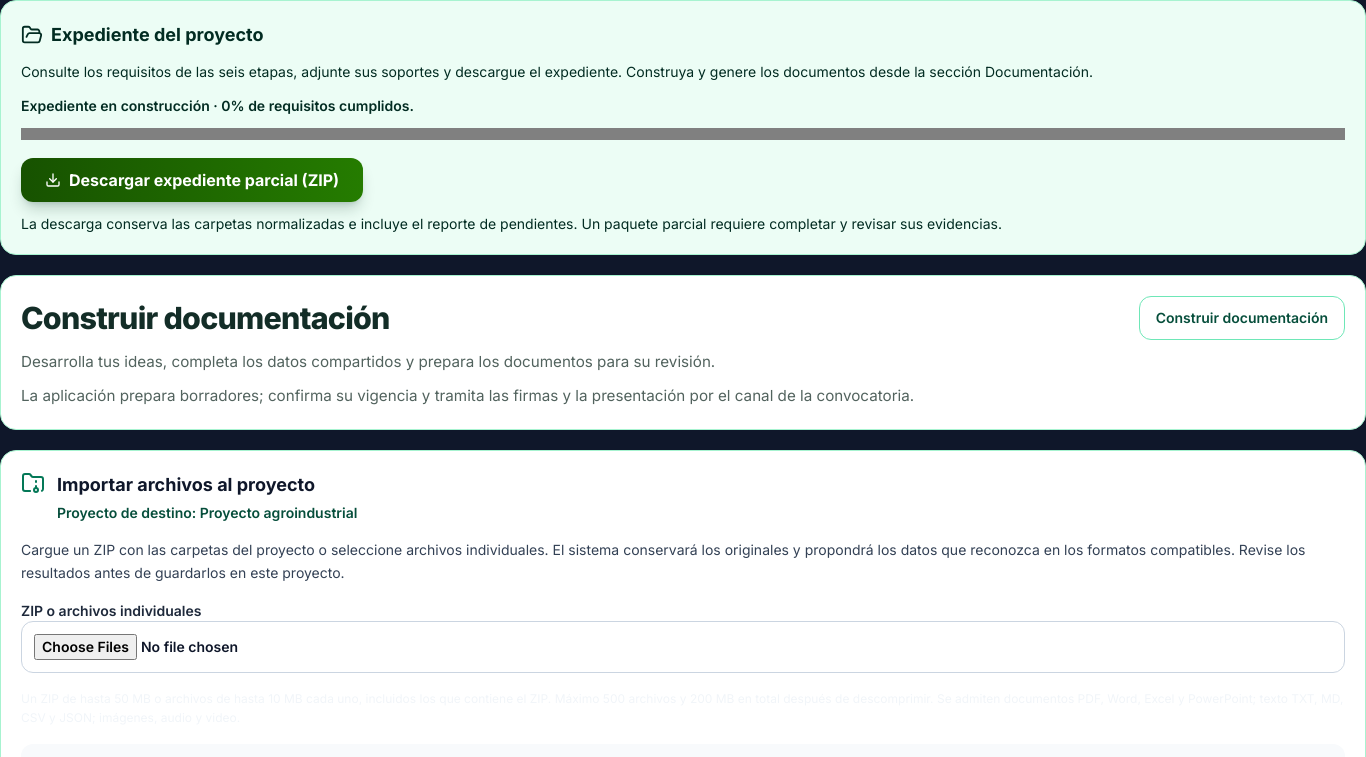
Scenario: Expediente de evidencias del proyecto › descarga el ZIP parcial con su nombre y muestra el resultado
Click the button "Descargar expediente parcial (ZIP)". click: (192, 180)
box: [21, 158, 363, 202]
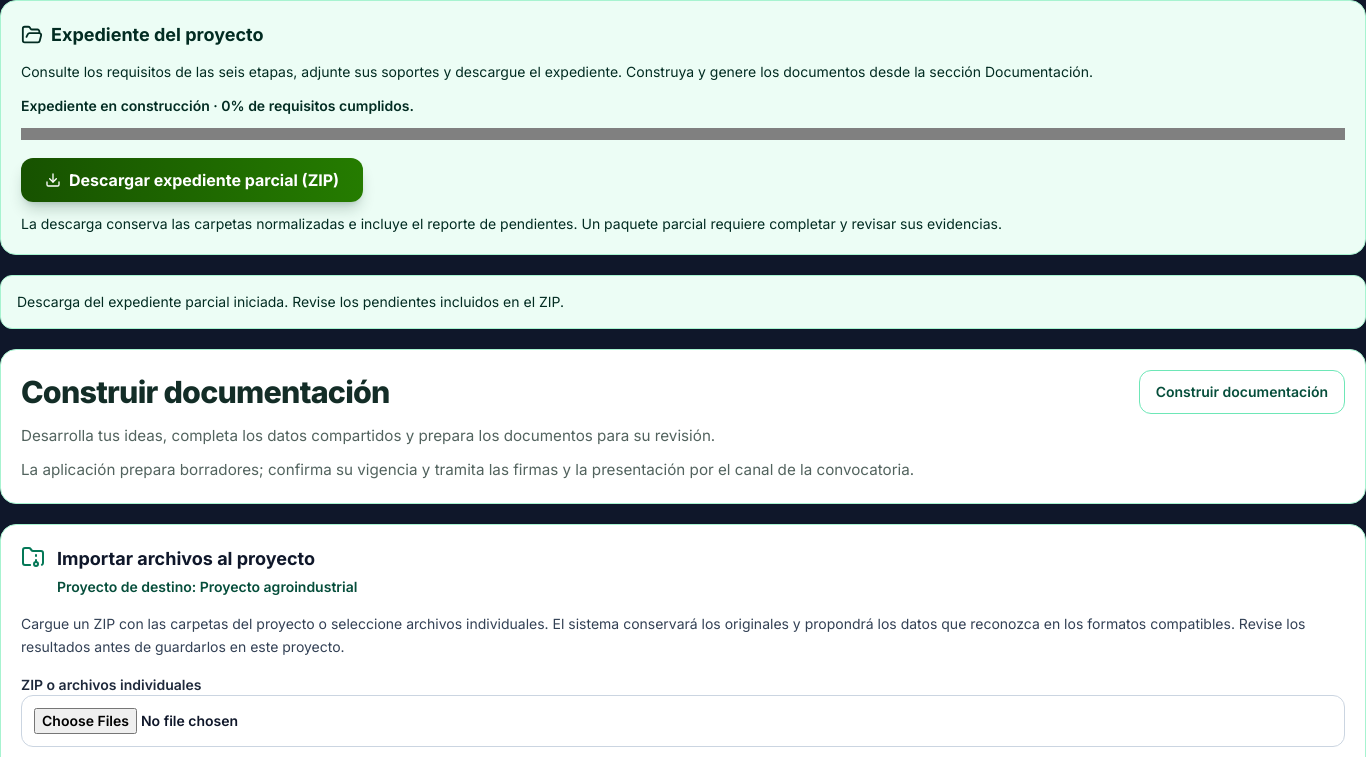
Expected: the message shows "Descarga del expediente parcial iniciada", [17, 293, 564, 310]
